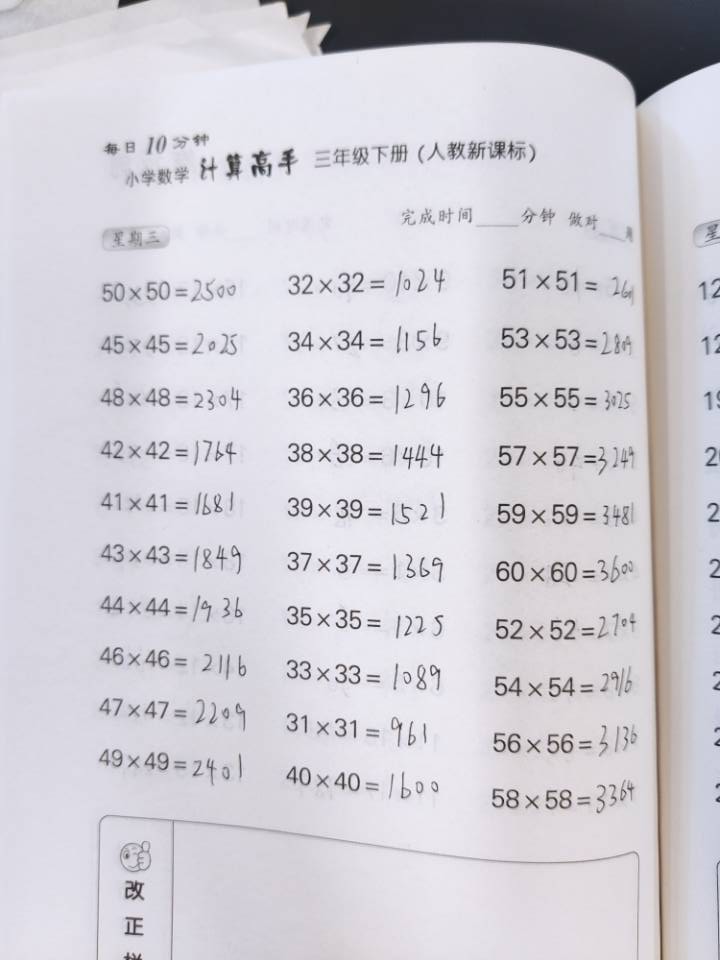equation: (191, 627, 239, 847), (573, 364, 612, 603), (439, 616, 478, 851), (555, 623, 596, 843), (395, 621, 435, 840), (479, 621, 516, 856), (529, 367, 567, 589), (239, 101, 273, 347), (195, 89, 229, 335), (324, 347, 358, 592), (280, 347, 314, 592), (192, 343, 226, 588), (366, 347, 400, 592), (285, 92, 319, 337), (452, 92, 486, 337), (370, 95, 404, 340), (537, 87, 571, 332), (500, 91, 534, 336), (585, 92, 619, 337), (452, 349, 485, 595), (406, 345, 439, 591), (409, 93, 442, 339), (325, 81, 358, 327), (241, 356, 274, 601), (521, 612, 554, 851), (497, 348, 528, 596), (359, 636, 395, 843), (280, 633, 315, 840), (243, 637, 274, 836), (322, 629, 349, 847)
